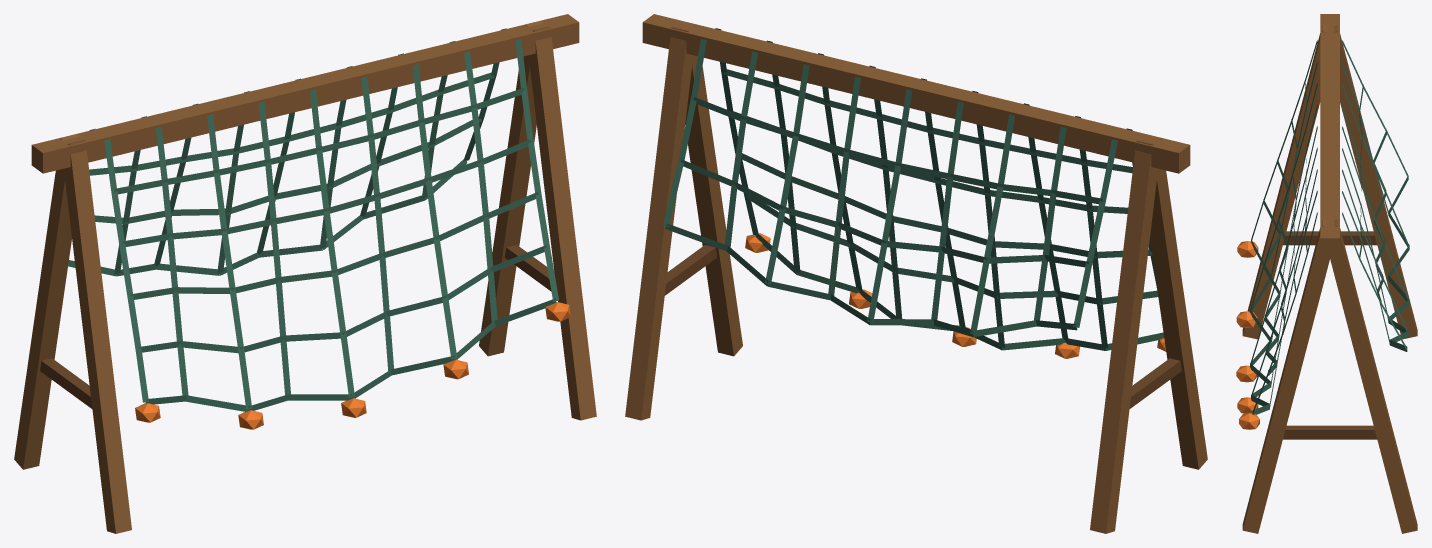
The model's file is harbor_fish_net_v01.glb.
3 views of the same model, side by side, from view 1: azimuth 30°, elevation 25°; view 2: azimuth 150°, elevation 25°; view 3: azimuth 270°, elevation 25° (orthographic). The views are drawn at different scales.
Parts seen in each view (by area): view 1: fish_net; view 2: fish_net; view 3: fish_net.
Part boxes in pixels (x1,y1,x2,y2): fish_net: [14, 14, 596, 533]; fish_net: [625, 14, 1207, 533]; fish_net: [1236, 14, 1417, 533].
Size of the model in its own units: 3 by 1.92 by 1.02.
